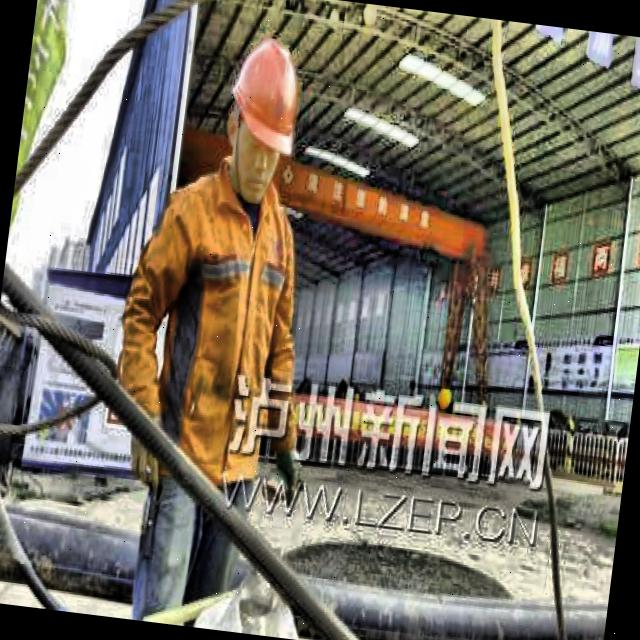helmet: (211, 24, 309, 218)
